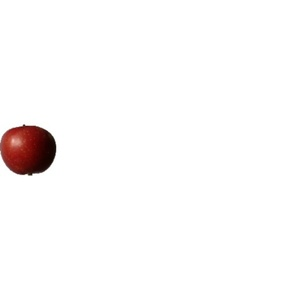maçã braeburn: (1, 116, 60, 181)
